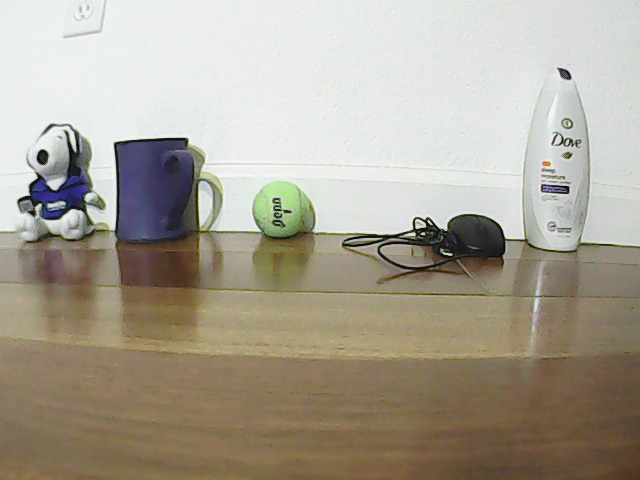ball: (246, 180, 313, 245)
mouse: (423, 200, 505, 263)
mug: (109, 131, 204, 243)
snoopy: (22, 123, 99, 240)
soap: (522, 66, 590, 264)
